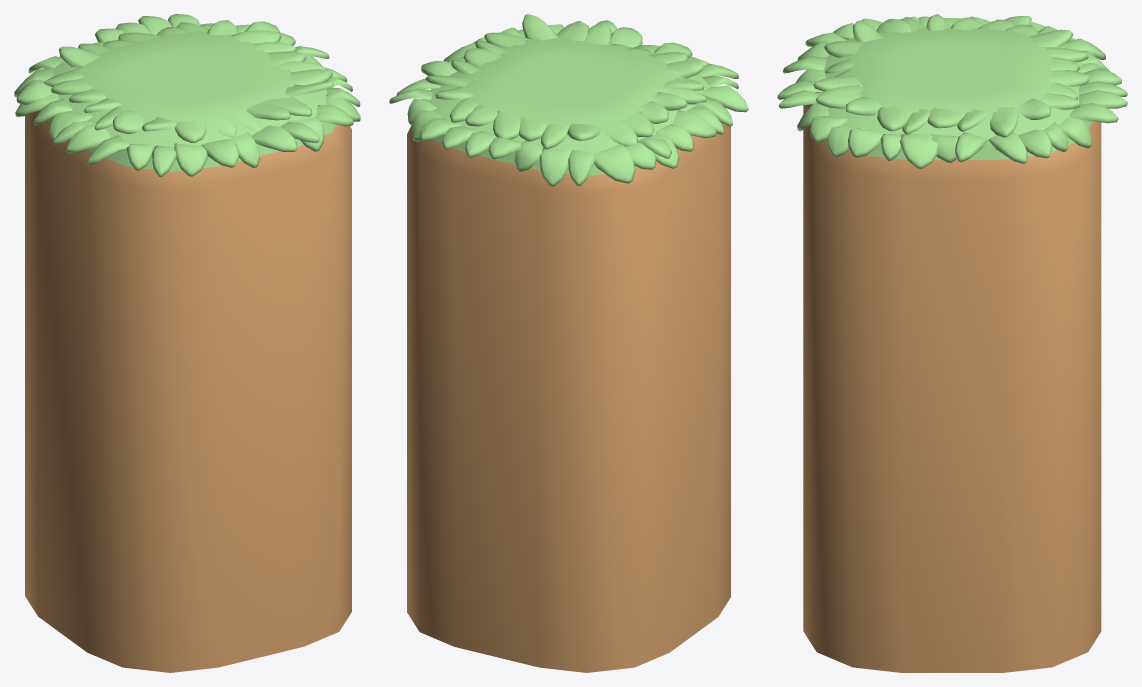
The model's file is Cliffs_1x1.fbx.
3 renders of one model, left to right at view 1: azimuth 30°, elevation 25°; view 2: azimuth 150°, elevation 25°; view 3: azimuth 270°, elevation 25°, orthographic. The views are drawn at different scales.
Parts seen in each view (by area): view 1: 1x1_Cliff, 1x1_Blades; view 2: 1x1_Cliff, 1x1_Blades; view 3: 1x1_Cliff, 1x1_Blades.
Boxes of the visible parts, x1=… form: 1x1_Cliff: x1=25, y1=28, x2=351, y2=672; 1x1_Blades: x1=14, y1=14, x2=360, y2=176; 1x1_Cliff: x1=407, y1=37, x2=730, y2=672; 1x1_Blades: x1=389, y1=14, x2=748, y2=186; 1x1_Cliff: x1=803, y1=27, x2=1101, y2=672; 1x1_Blades: x1=777, y1=14, x2=1127, y2=168.
Bounding box in the file's own units: 115 × 203 × 118.
